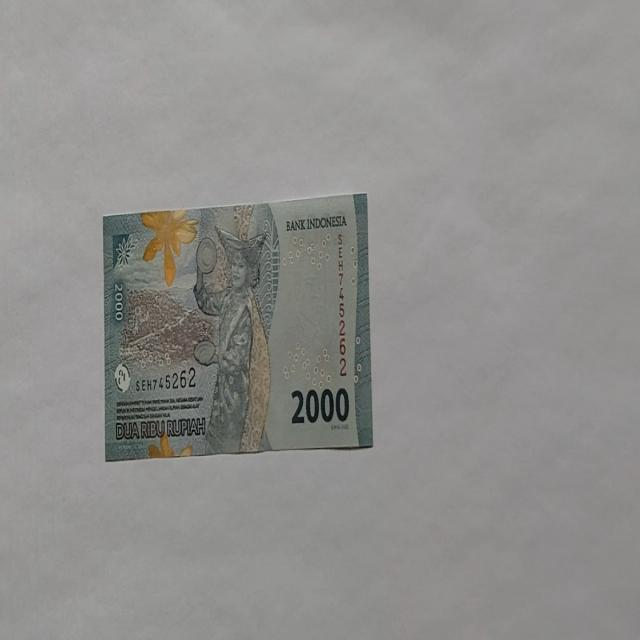dua ribu rupiah: (102, 191, 374, 461), (190, 222, 274, 454), (140, 208, 198, 287)
